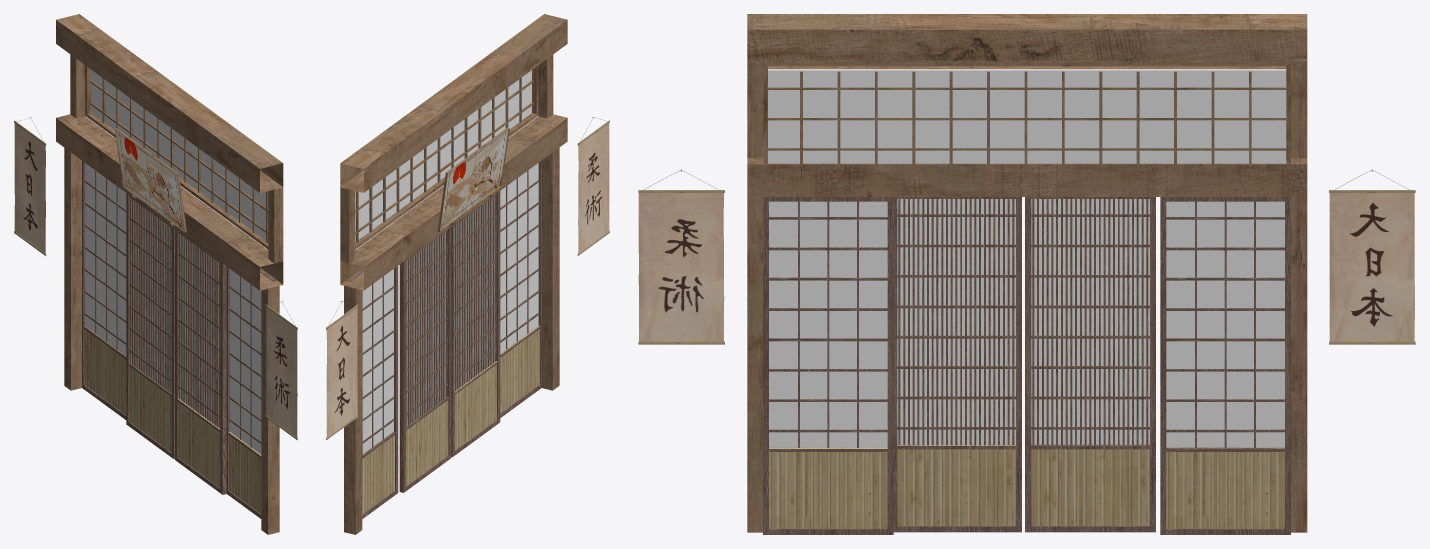
Rendered from Door2.fbx.
3 renders of one model, left to right at view 1: azimuth 30°, elevation 25°; view 2: azimuth 150°, elevation 25°; view 3: azimuth 270°, elevation 25°, orthographic. The views are drawn at different scales.
Visible parts, largest first — view 1: base.Shape_wall_wood_0.002, door_05.Shape_windows_glass_down_0, door_06.Shape_walll_down_0, door_03.Shape_window_frames_0, door_04.Shape_window_plancs_0, flag 01.Shape_base_0, flag 01_dup_2.Shape_bolt_0, picture_dup_2.Shape_frame_0, base.Shape_windows_glass_up_2_0.001, base.Shape_window_plancs_base_0, base.Shape_windows_glass_up_1_0, base.Shape_window_frames_base_0.001; view 2: base.Shape_wall_wood_0.002, door_06.Shape_walll_down_0, door_05.Shape_windows_glass_down_0, door_04.Shape_window_plancs_0, door_03.Shape_window_frames_0, flag 01.Shape_base_0, flag 01_dup_2.Shape_bolt_0, picture_dup_2.Shape_frame_0, base.Shape_window_plancs_base_0, base.Shape_windows_glass_up_1_0, base.Shape_windows_glass_up_2_0.001, base.Shape_window_frames_base_0.001; view 3: base.Shape_wall_wood_0.002, door_03.Shape_window_frames_0, door_04.Shape_window_plancs_0, door_06.Shape_walll_down_0, door_05.Shape_windows_glass_down_0, base.Shape_windows_glass_up_2_0.001, base.Shape_windows_glass_up_1_0, flag 01_dup_2.Shape_bolt_0, flag 01.Shape_base_0, base.Shape_window_plancs_base_0, base.Shape_window_frames_base_0.001.
Part boxes in pixels (left/top/right/bottom): base.Shape_wall_wood_0.002: left=56, top=14, right=283, bottom=534; door_05.Shape_windows_glass_down_0: left=175, top=229, right=226, bottom=494; door_06.Shape_walll_down_0: left=126, top=193, right=174, bottom=458; door_03.Shape_window_frames_0: left=82, top=161, right=126, bottom=419; door_04.Shape_window_plancs_0: left=226, top=267, right=277, bottom=518; flag 01.Shape_base_0: left=265, top=301, right=297, bottom=440; flag 01_dup_2.Shape_bolt_0: left=14, top=117, right=46, bottom=255; picture_dup_2.Shape_frame_0: left=115, top=128, right=186, bottom=232; base.Shape_windows_glass_up_2_0.001: left=91, top=70, right=184, bottom=180; base.Shape_window_plancs_base_0: left=90, top=78, right=268, bottom=242; base.Shape_windows_glass_up_1_0: left=187, top=140, right=265, bottom=240; base.Shape_window_frames_base_0.001: left=85, top=65, right=275, bottom=249; base.Shape_wall_wood_0.002: left=340, top=14, right=567, bottom=534; door_06.Shape_walll_down_0: left=399, top=227, right=451, bottom=492; door_05.Shape_windows_glass_down_0: left=451, top=191, right=500, bottom=457; door_04.Shape_window_plancs_0: left=500, top=161, right=541, bottom=417; door_03.Shape_window_frames_0: left=346, top=266, right=398, bottom=518; flag 01.Shape_base_0: left=577, top=117, right=609, bottom=255; flag 01_dup_2.Shape_bolt_0: left=326, top=301, right=358, bottom=439; picture_dup_2.Shape_frame_0: left=437, top=127, right=509, bottom=231; base.Shape_window_plancs_base_0: left=355, top=77, right=533, bottom=242; base.Shape_windows_glass_up_1_0: left=440, top=70, right=531, bottom=179; base.Shape_windows_glass_up_2_0.001: left=355, top=139, right=437, bottom=241; base.Shape_window_frames_base_0.001: left=346, top=65, right=538, bottom=249; base.Shape_wall_wood_0.002: left=747, top=14, right=1307, bottom=532; door_03.Shape_window_frames_0: left=1160, top=197, right=1290, bottom=534; door_04.Shape_window_plancs_0: left=763, top=197, right=893, bottom=534; door_06.Shape_walll_down_0: left=1025, top=197, right=1155, bottom=532; door_05.Shape_windows_glass_down_0: left=893, top=197, right=1021, bottom=532; base.Shape_windows_glass_up_2_0.001: left=1025, top=70, right=1286, bottom=163; base.Shape_windows_glass_up_1_0: left=768, top=70, right=1024, bottom=163; flag 01_dup_2.Shape_bolt_0: left=1329, top=169, right=1415, bottom=344; flag 01.Shape_base_0: left=638, top=169, right=724, bottom=344; base.Shape_window_plancs_base_0: left=767, top=71, right=1286, bottom=166; base.Shape_window_frames_base_0.001: left=763, top=62, right=1290, bottom=163.
Bounding box in the file's own units: 41.87 × 360 × 502.
